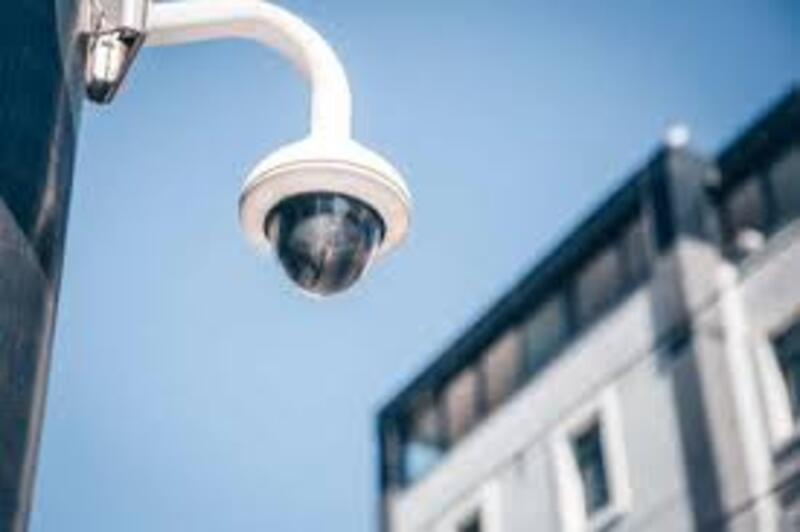dome: (220, 131, 421, 302)
